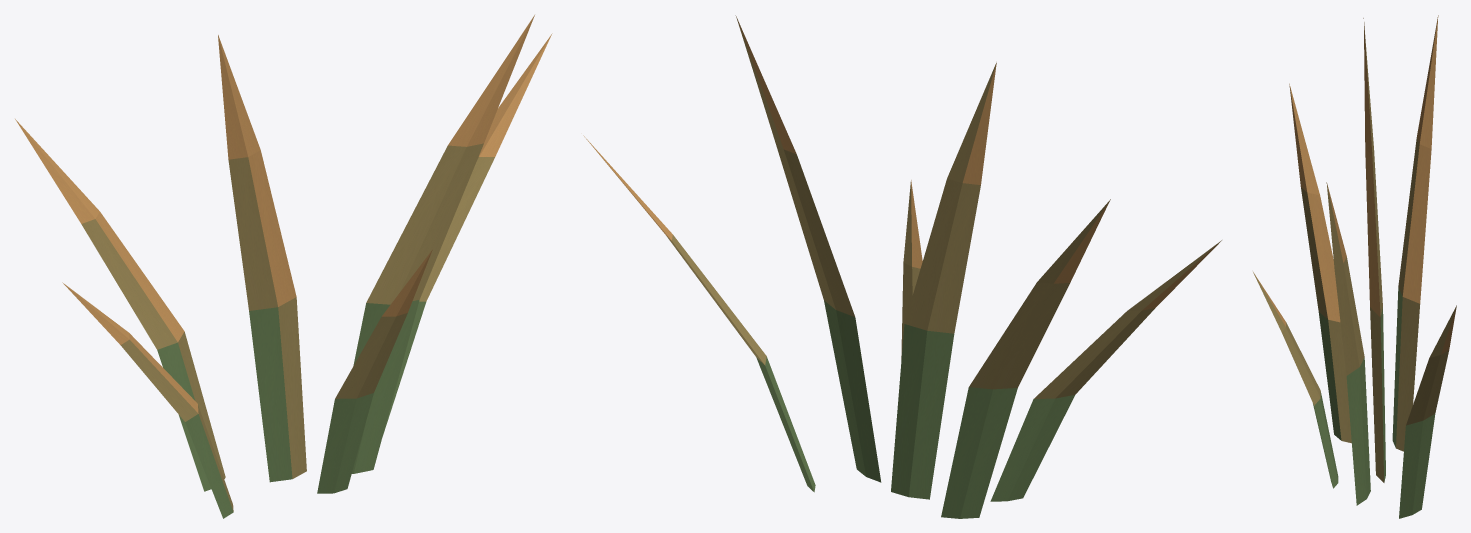
File: 06_shore_reeds_B.obj
The picture shows the model from 3 angles, left to right: view 1: azimuth 30°, elevation 25°; view 2: azimuth 150°, elevation 25°; view 3: azimuth 270°, elevation 25°; orthographic projection. The views are drawn at different scales.
Parts seen in each view (by area): view 1: Shore_Reeds_B; view 2: Shore_Reeds_B; view 3: Shore_Reeds_B.
Part boxes in pixels (bbox=[...]): Shore_Reeds_B: bbox=[15, 15, 552, 518]; Shore_Reeds_B: bbox=[583, 15, 1221, 518]; Shore_Reeds_B: bbox=[1253, 15, 1456, 518].
Bounding box in the file's own units: 0.65 × 0.5 × 0.22.
1 material, 1 textured.
